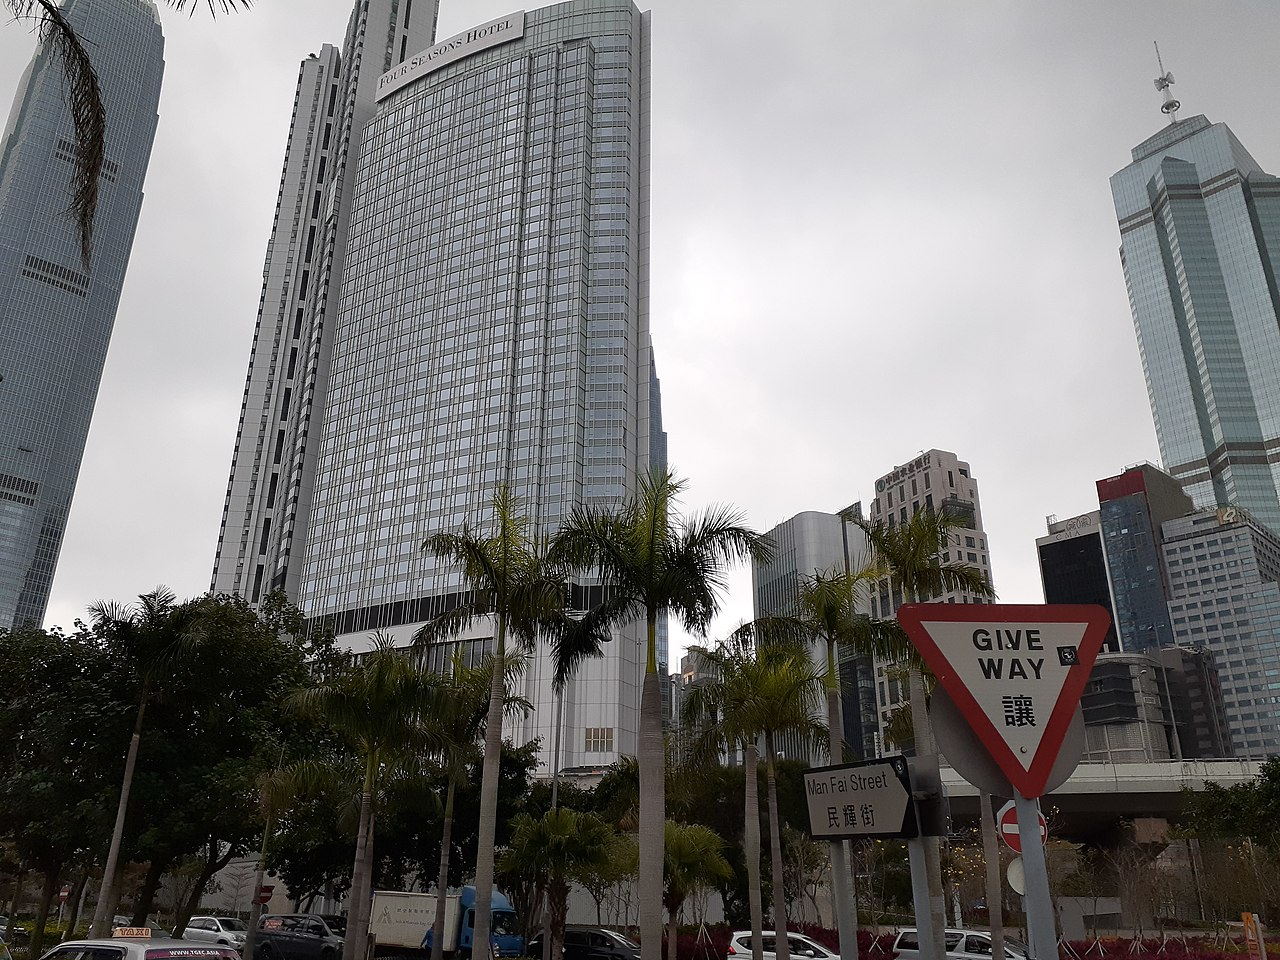Give Way: (897, 602, 1117, 790)
